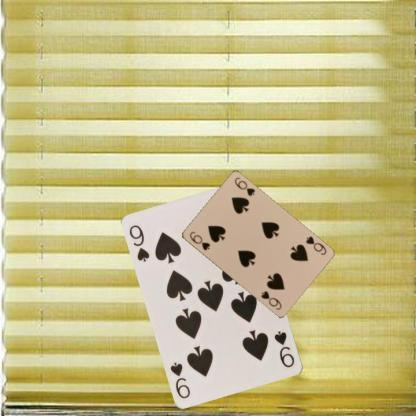6s: (187, 229, 211, 252), (302, 234, 327, 256)
9s: (271, 328, 296, 369), (127, 223, 151, 264)
